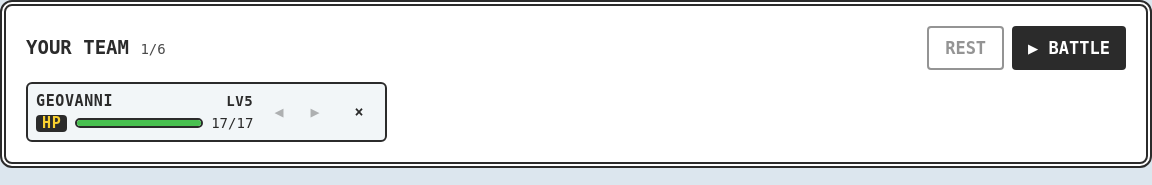
Test: TeamBar errors › shows why the server refused a change, and keeps the team as it was
Expected: the text "Geovanni" is shown, [36,93,113,110]
Click the button named "Remove Geovanni from team". click: click(359, 112)
box: [341,94,377,130]
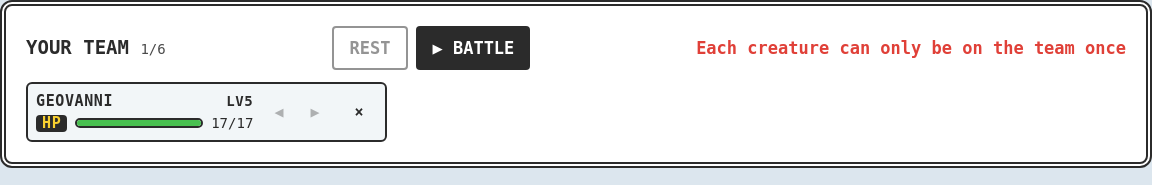
Expected: the text "Geovanni" is shown, [36,93,113,110]
Expected: the message reads "Each creature can only be on the team once", [696,38,1126,58]
